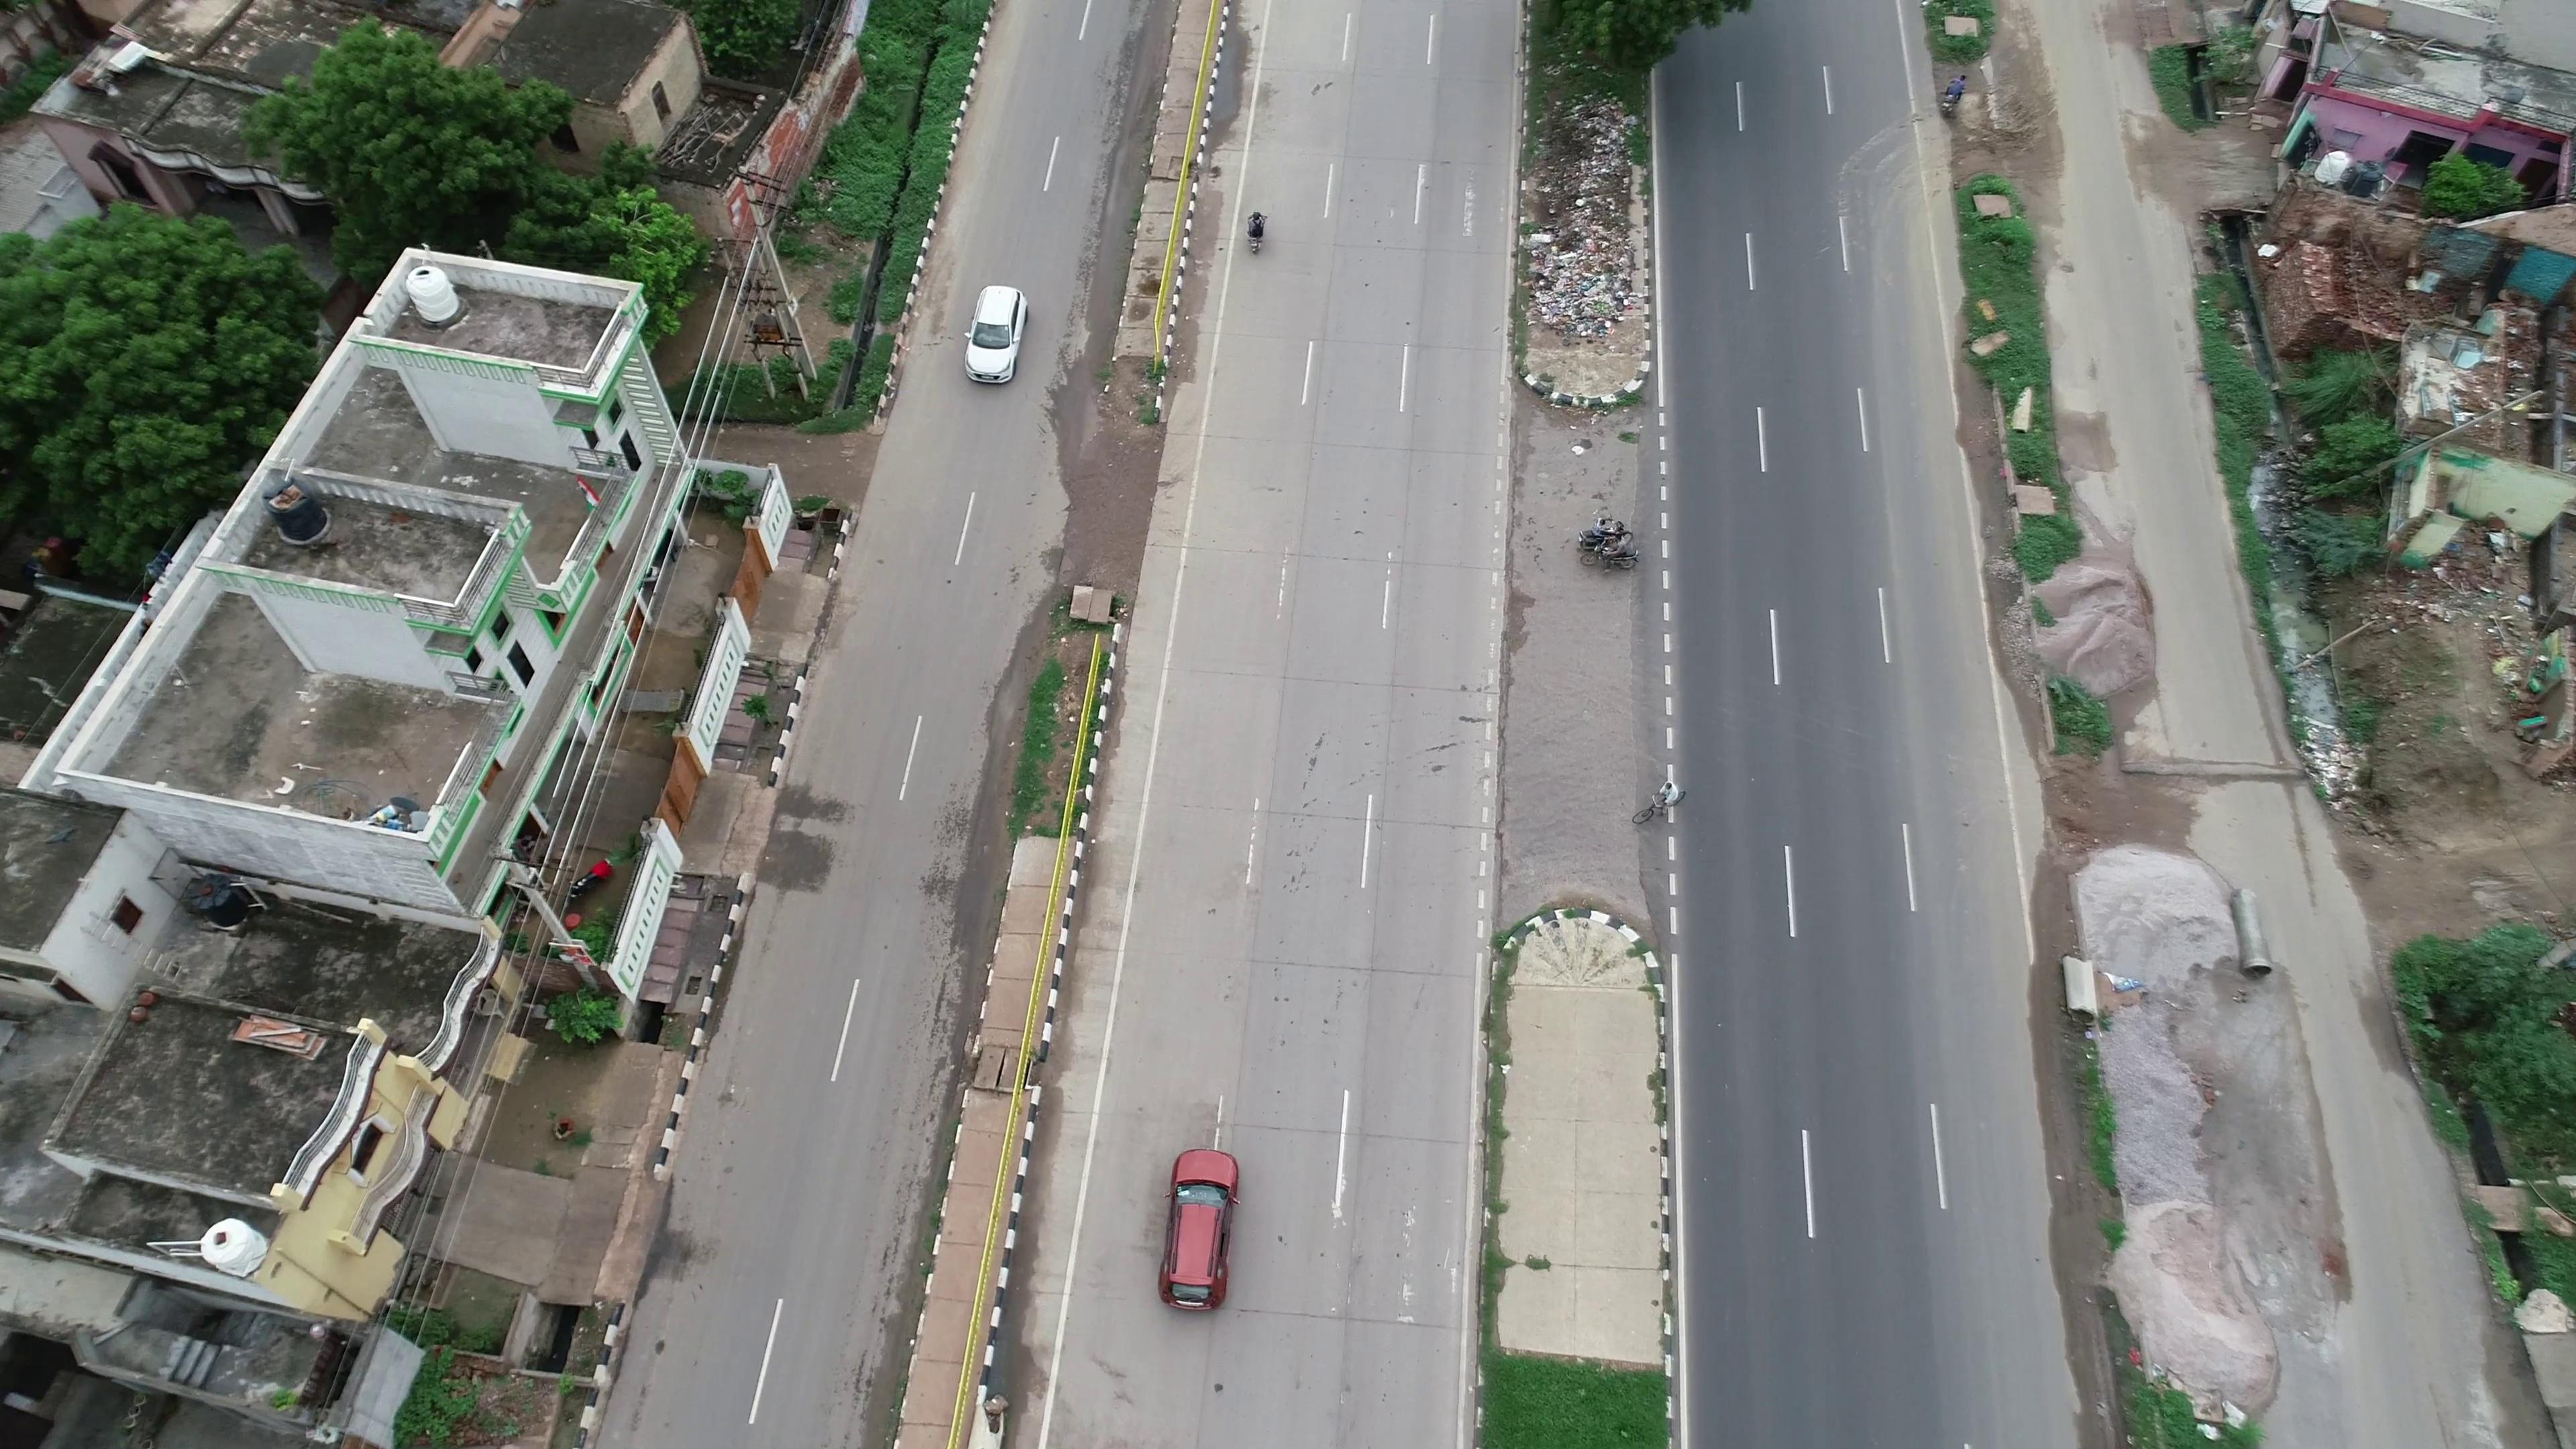Road_side_garbage: (1514, 106, 1640, 349)
